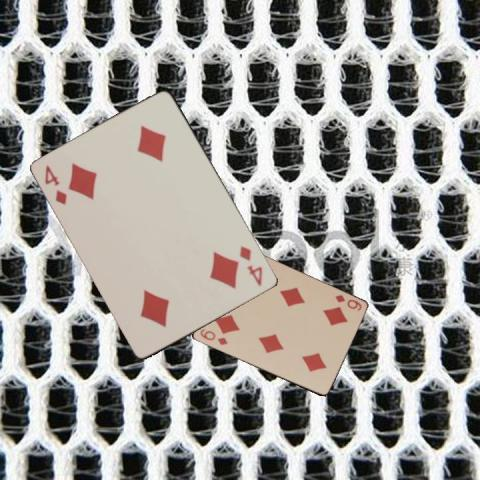4d: (236, 243, 264, 288), (42, 162, 69, 207)
6d: (196, 326, 228, 347), (332, 292, 363, 312)
